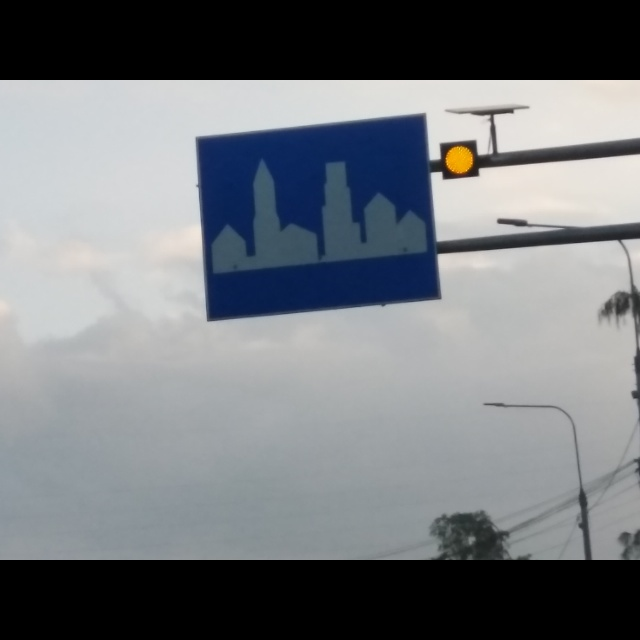Khu đông dân cư: (197, 112, 450, 322)
